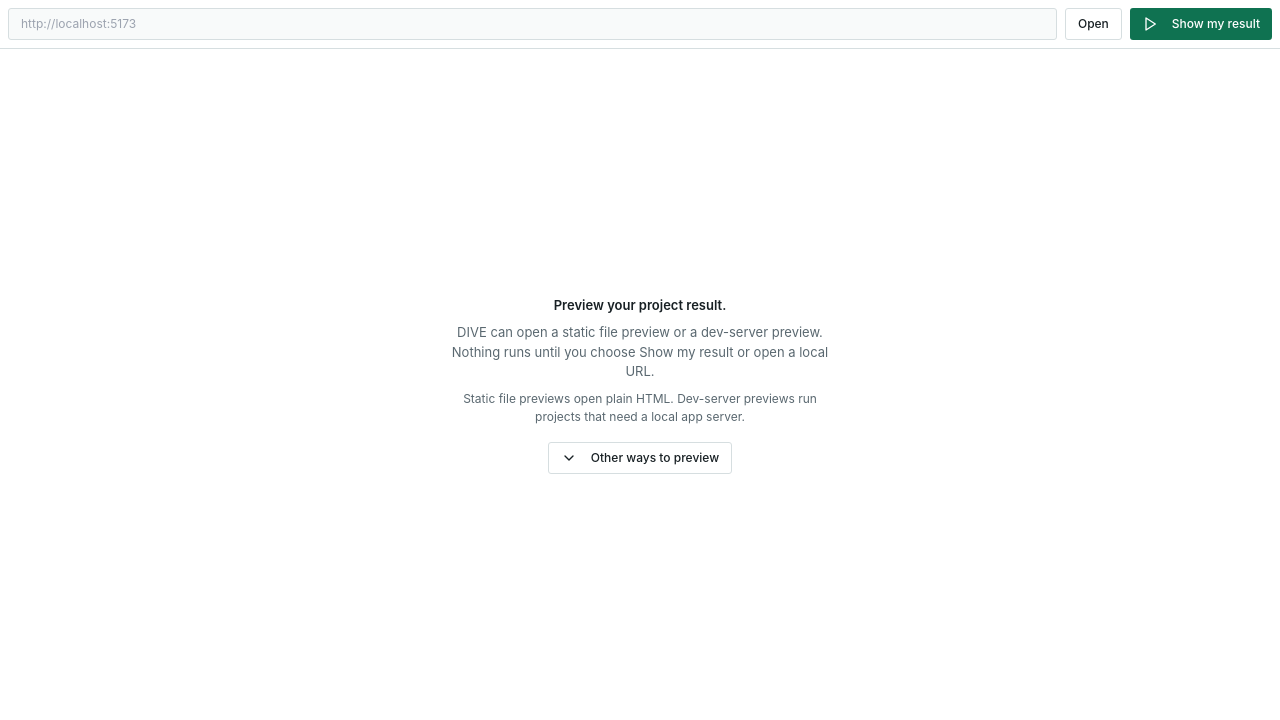
Test: PreviewTab › renders preview-specific unavailable state
Click the button with test id "preview-other-ways-toggle". click: (640, 458)
box: [548,442,732,474]
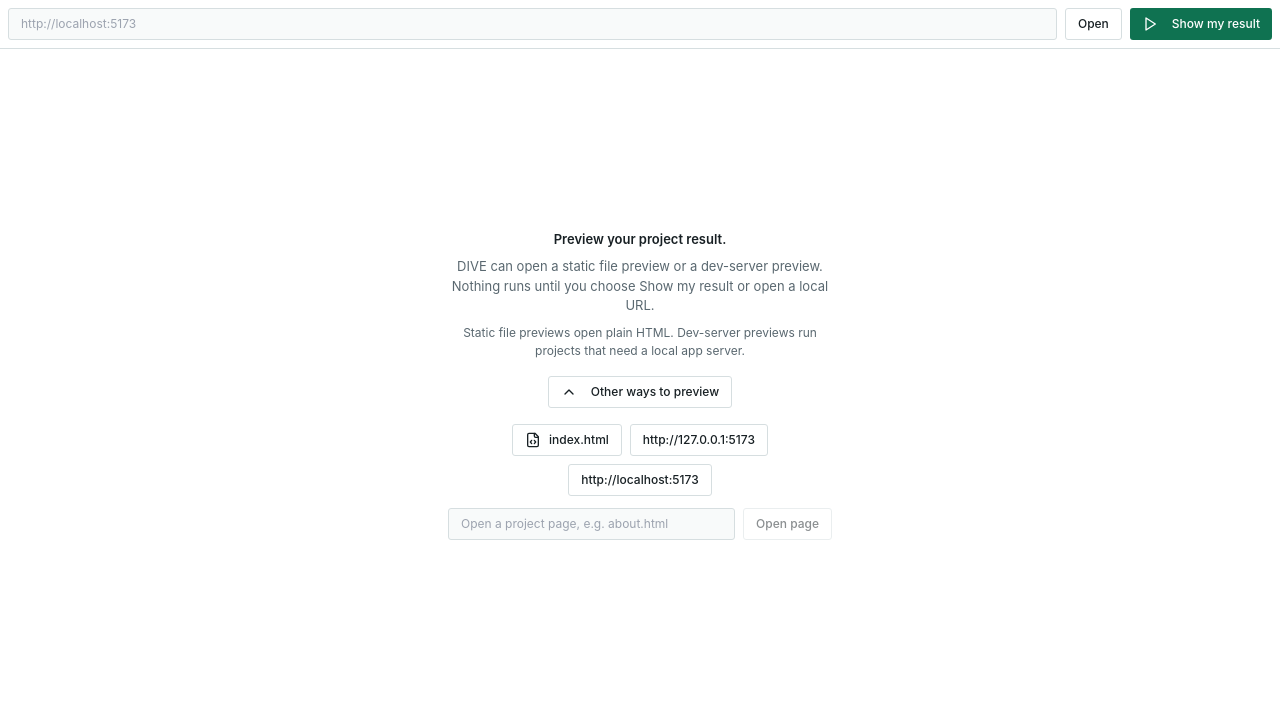
Click the button with test id "preview-static-candidate". click: (567, 440)
box: [512,424,622,456]
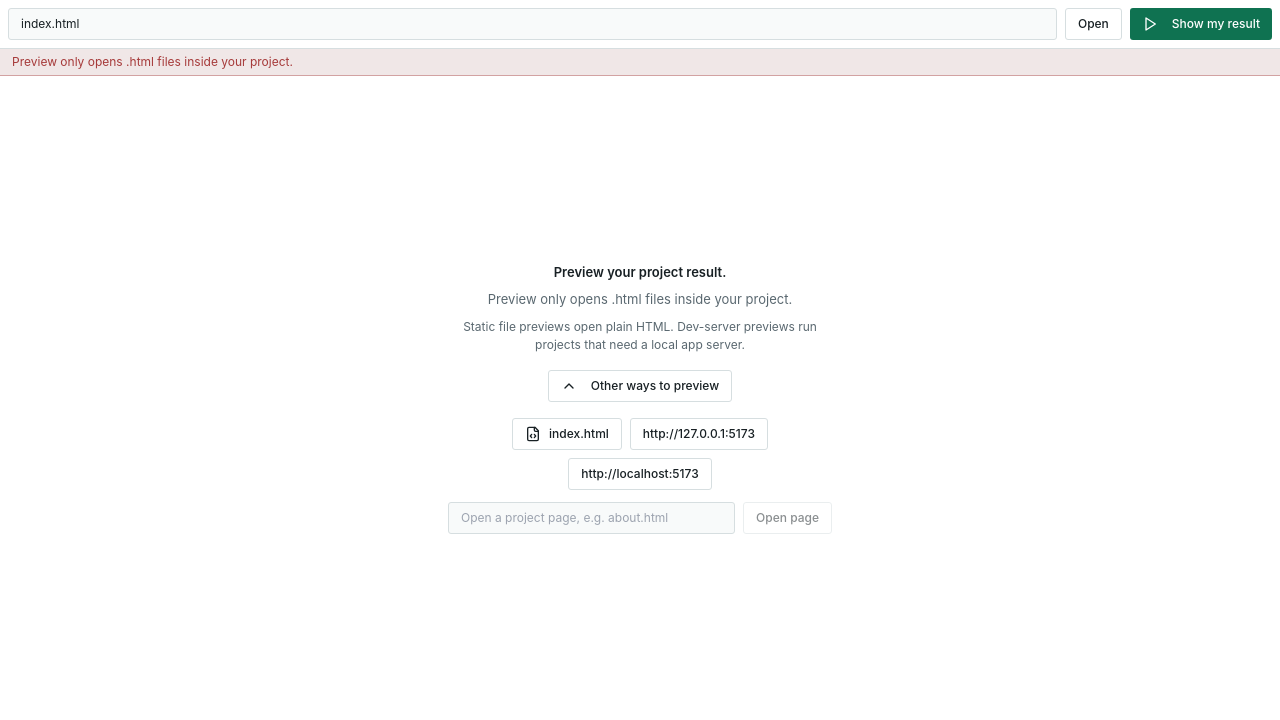
Result: the text with test id "preview-error" shows ".html" at [12,54,293,69]
